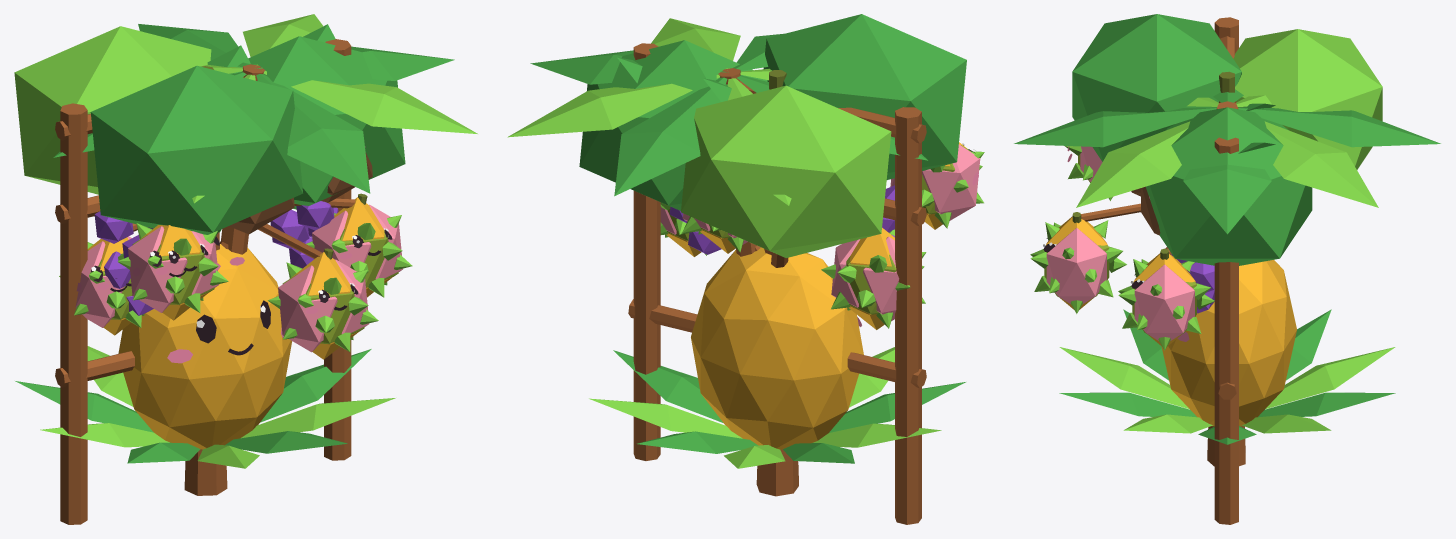
File: fruit_crops.glb
3 views of the same model, side by side, from view 1: azimuth 30°, elevation 25°; view 2: azimuth 150°, elevation 25°; view 3: azimuth 270°, elevation 25° (orthographic). The views are drawn at different scales.
Visible parts, largest first — view 1: crop_apple_mesh, crop_pineapple_mesh, crop_grape_mesh, crop_coconut_mesh, crop_peach_mesh, crop_durian_mesh, crop_mango_mesh; view 2: crop_apple_mesh, crop_pineapple_mesh, crop_grape_mesh, crop_coconut_mesh, crop_peach_mesh, crop_durian_mesh, crop_mango_mesh; view 3: crop_apple_mesh, crop_pineapple_mesh, crop_coconut_mesh, crop_grape_mesh, crop_peach_mesh, crop_durian_mesh, crop_mango_mesh.
Part boxes in pixels (box(x1,y1,x2,y2)): crop_apple_mesh: box(14, 26, 405, 495); crop_pineapple_mesh: box(15, 229, 395, 468); crop_grape_mesh: box(55, 24, 351, 524); crop_coconut_mesh: box(53, 14, 477, 465); crop_peach_mesh: box(75, 204, 402, 352); crop_durian_mesh: box(59, 213, 412, 351); crop_mango_mesh: box(87, 197, 393, 359); crop_apple_mesh: box(579, 14, 966, 496); crop_pineapple_mesh: box(589, 247, 965, 468); crop_grape_mesh: box(617, 43, 926, 524); crop_coconut_mesh: box(507, 18, 927, 469); crop_peach_mesh: box(660, 144, 980, 320); crop_durian_mesh: box(660, 143, 984, 328); crop_mango_mesh: box(666, 142, 967, 329); crop_apple_mesh: box(1054, 14, 1382, 466); crop_pineapple_mesh: box(1059, 260, 1395, 444); crop_coconut_mesh: box(1014, 89, 1440, 427); crop_grape_mesh: box(1171, 17, 1275, 524); crop_peach_mesh: box(1046, 146, 1194, 340); crop_durian_mesh: box(1030, 146, 1214, 350); crop_mango_mesh: box(1043, 216, 1195, 346).
Bounding box in the file's own units: 1.2 × 1.28 × 1.16.
